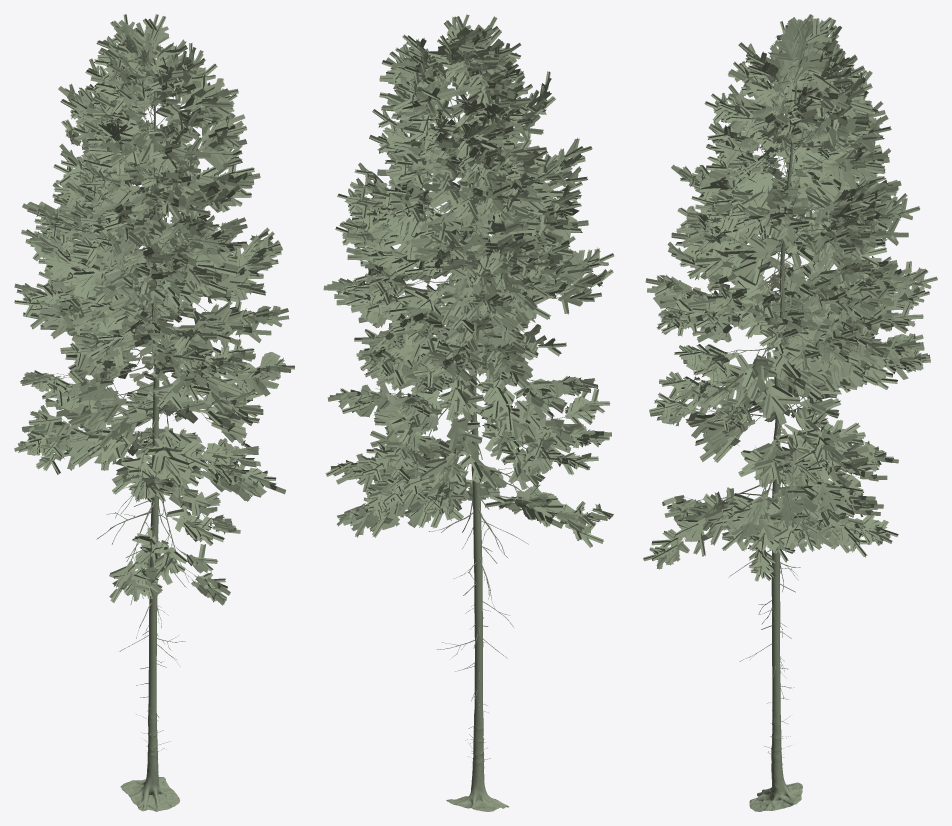
The model's file is fir_tree_01_a_LOD2.glb.
3 renders of one model, left to right at view 1: azimuth 30°, elevation 25°; view 2: azimuth 150°, elevation 25°; view 3: azimuth 270°, elevation 25°, orthographic. The views are drawn at different scales.
Parts seen in each view (by area): view 1: fir_tree_01_a_LOD2; view 2: fir_tree_01_a_LOD2; view 3: fir_tree_01_a_LOD2.
Boxes of the visible parts, x1,y1,x2,y2 form: fir_tree_01_a_LOD2: (14,14,294,811); fir_tree_01_a_LOD2: (323,14,614,811); fir_tree_01_a_LOD2: (643,14,937,811).
Size of the model in its own units: 6.58 by 18.96 by 6.47.
